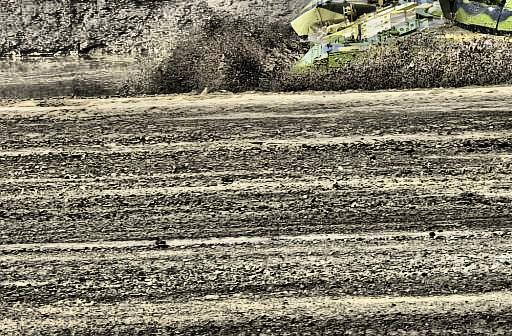tanks: (293, 1, 512, 65)
